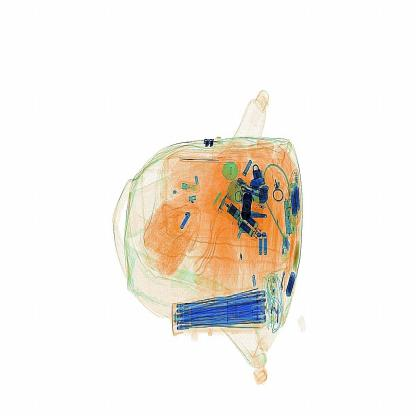wrench: (166, 145, 249, 177)
